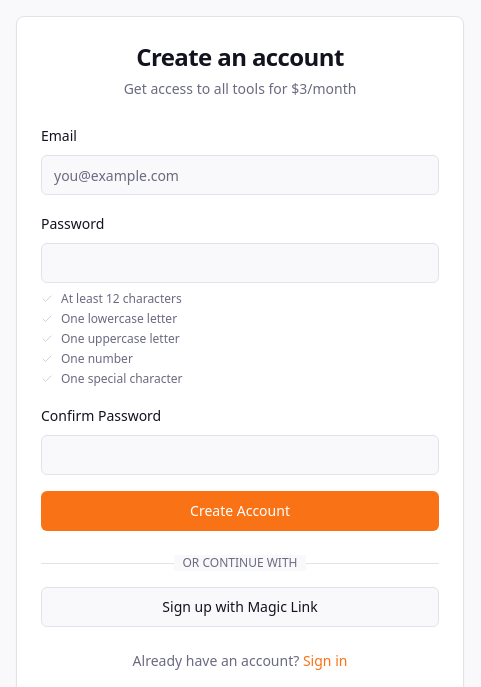
RegisterPage › shows validation error for invalid email
Submit with empty email to trigger zod validation without native form constraint
Click the button "Create Account". click: {"x": 240, "y": 511}
box: [41, 491, 439, 531]
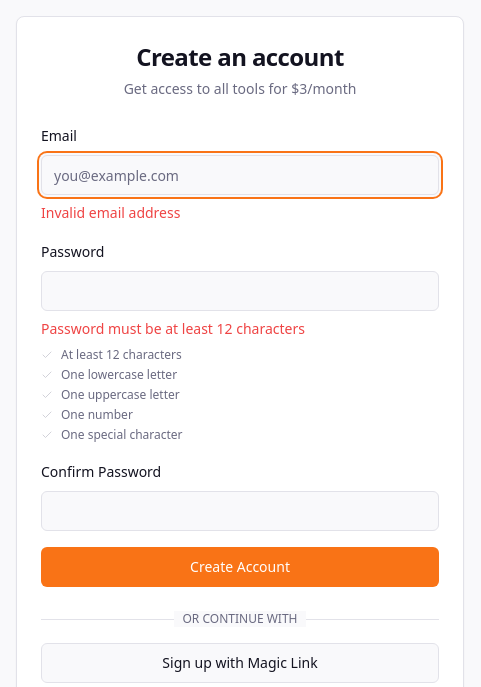
Expected: the text "Invalid email address" is shown, [41, 203, 180, 222]
